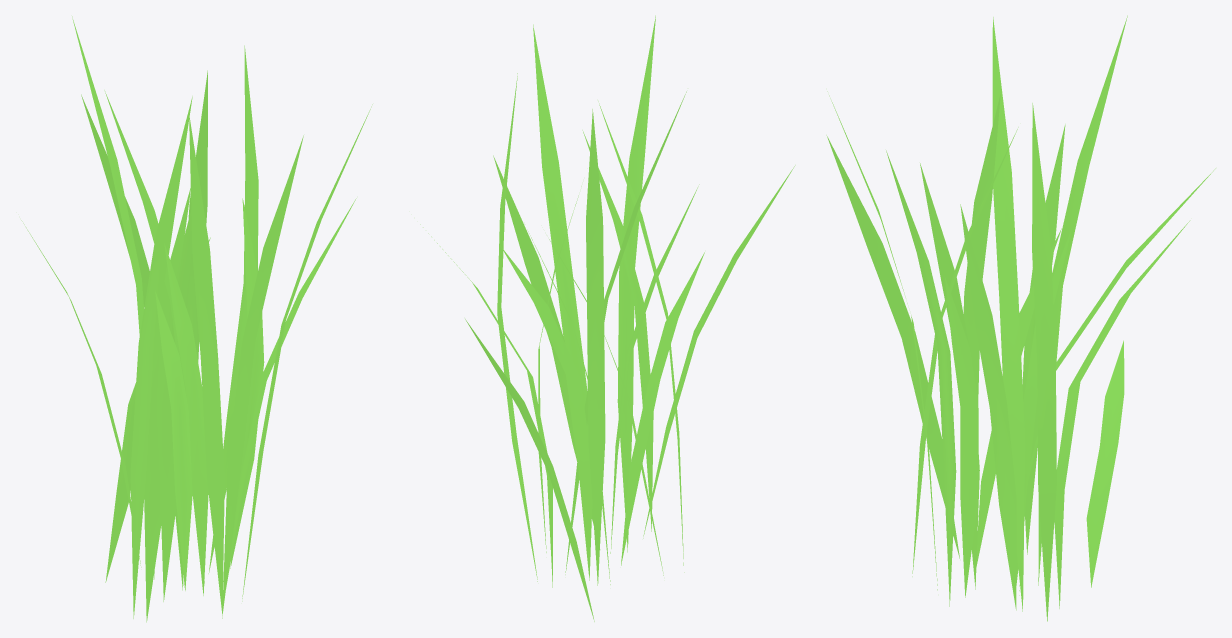
Rendered from grass_long.fbx.
3 views of the same model, side by side, from view 1: azimuth 30°, elevation 25°; view 2: azimuth 150°, elevation 25°; view 3: azimuth 270°, elevation 25° (orthographic). The views are drawn at different scales.
Visible parts, largest first — view 1: grass pile_long.012; view 2: grass pile_long.012; view 3: grass pile_long.012.
Part boxes in pixels (bbox=[...]): grass pile_long.012: bbox=[21, 16, 372, 622]; grass pile_long.012: bbox=[420, 15, 795, 621]; grass pile_long.012: bbox=[826, 15, 1215, 621].
Bounding box in the file's own units: 205 × 387 × 243.
